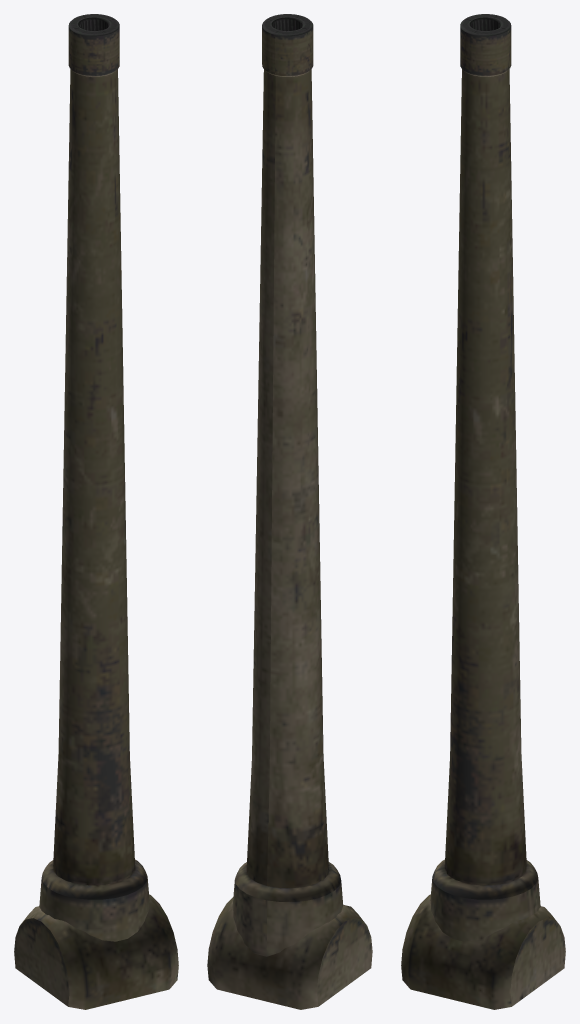
Rendered from Gun_02.glb.
3 views of the same model, side by side, from view 1: azimuth 30°, elevation 25°; view 2: azimuth 150°, elevation 25°; view 3: azimuth 330°, elevation 25° (orthographic).
Parts seen in each view (by area): view 1: set_0_group_0; view 2: set_0_group_0; view 3: set_0_group_0.
Boxes of the visible parts, x1,y1,x2,y2 form: set_0_group_0: [14, 14, 178, 1009]; set_0_group_0: [207, 14, 372, 1009]; set_0_group_0: [401, 14, 565, 1009].
Size of the model in its own units: 0.3954 by 3.29 by 0.409.
1 material, 1 textured.
